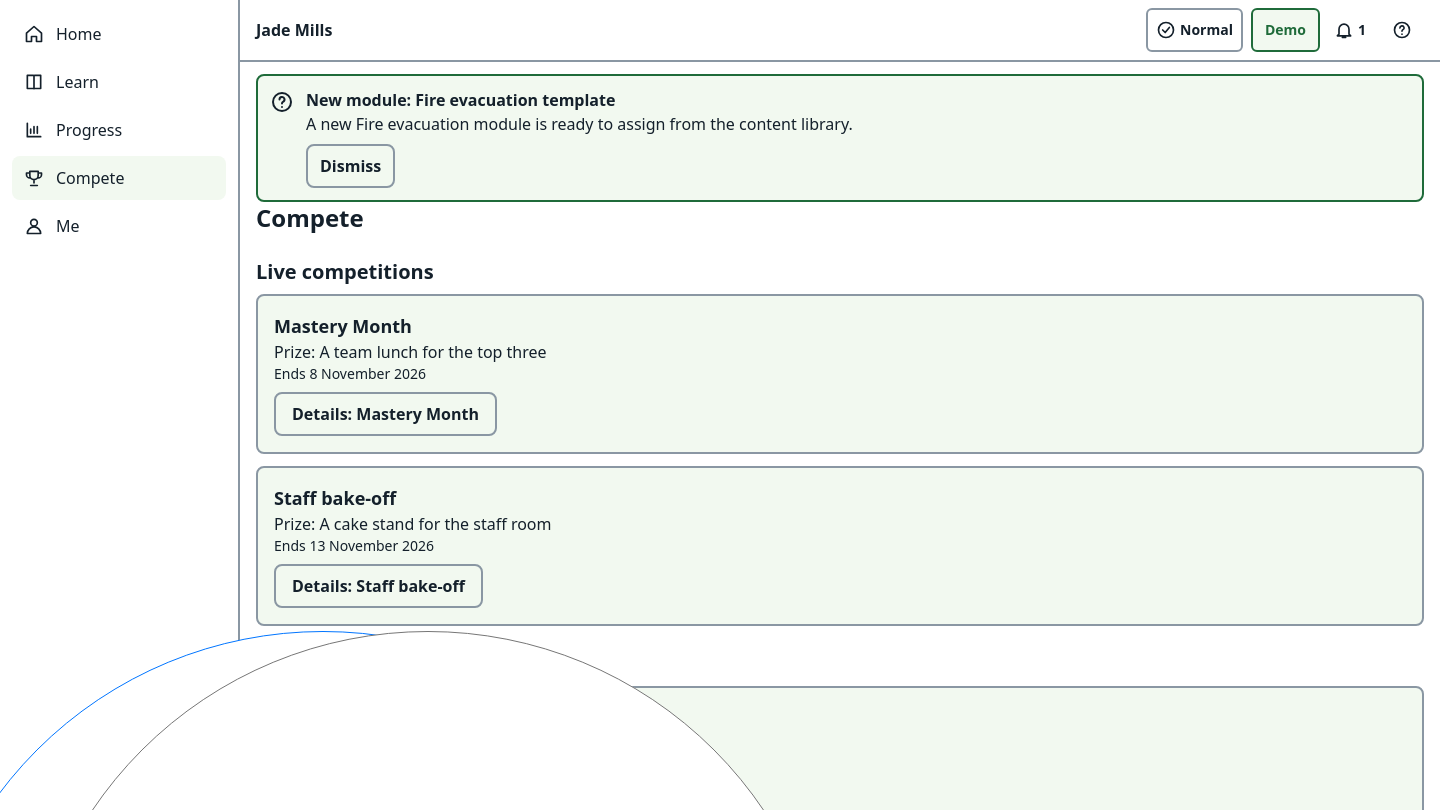
Test: S10 live competitions › opens a details sheet with how to win, dates, prize and the leaderboard when it is on
This screenshot has width=1440, height=810.
Click the button "Details: Mastery Month".
click(385, 414)  # box [274, 392, 497, 436]
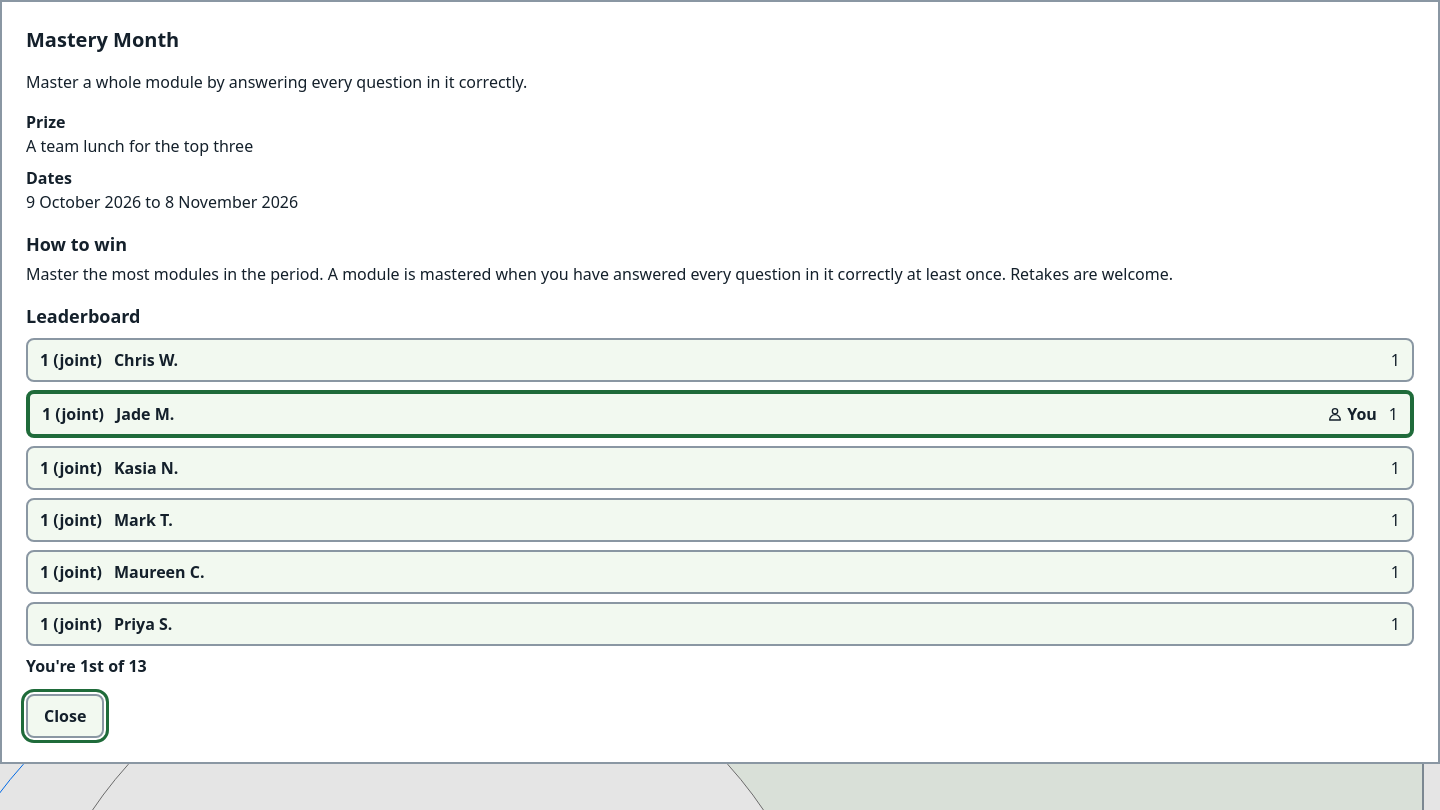
Check: the heading "How to win" is shown, box [26, 232, 127, 256]
Check: the dialog "Mastery Month" shows "Master the most modules in the period", box [26, 263, 1173, 285]
Check: the dialog "Mastery Month" shows "Prize", box [26, 111, 66, 133]
